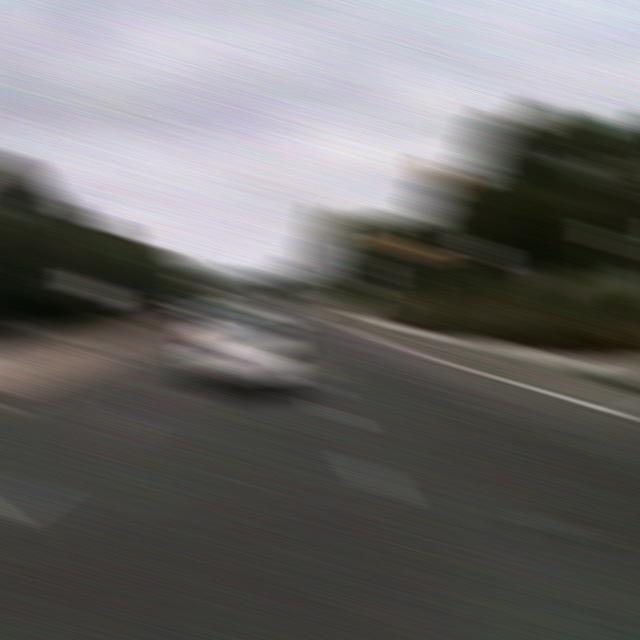speedLimit45: (464, 233, 501, 266)
